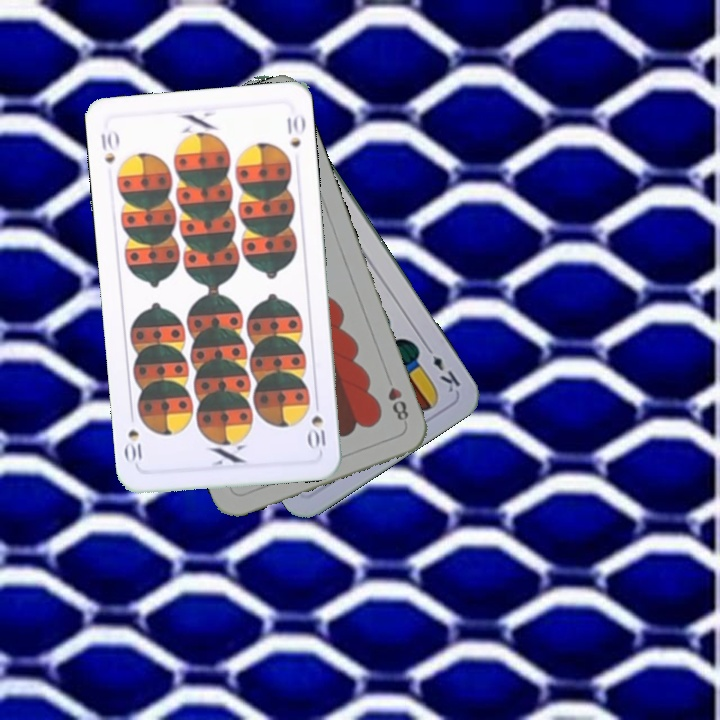EK: (421, 341, 463, 396)
H8: (383, 382, 411, 423)
S10: (97, 126, 121, 166), (306, 411, 328, 453)
